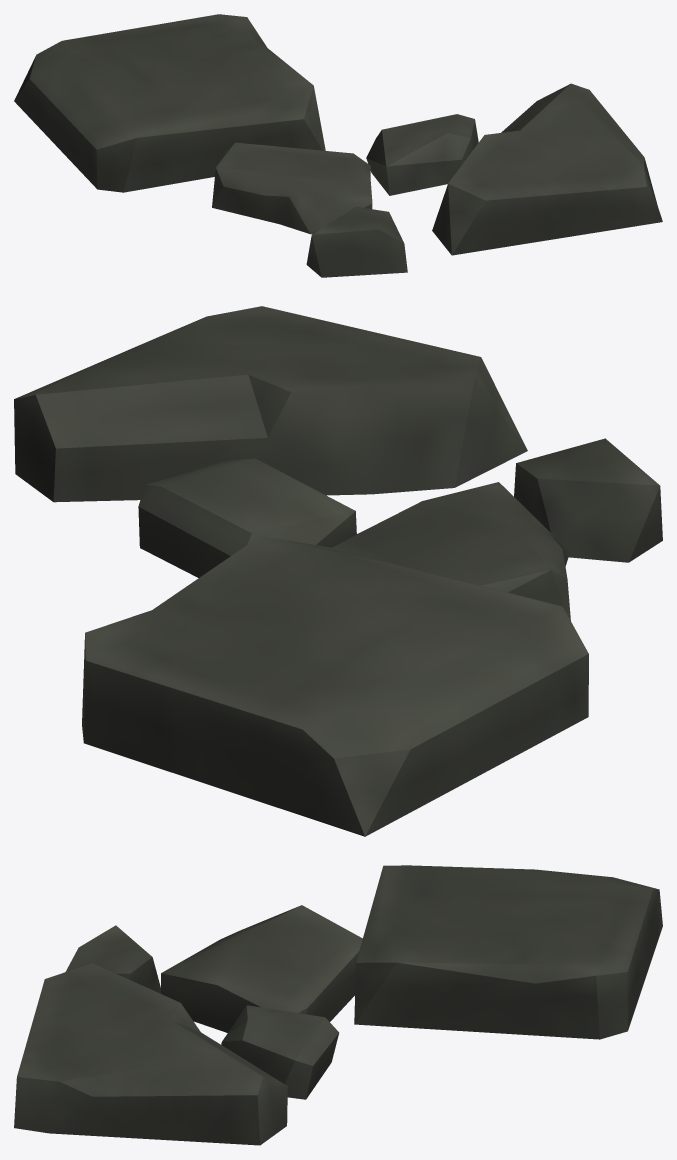
Rendered from Floor3.fbx.
The picture shows the model from 3 angles, top to bottom: view 1: azimuth 30°, elevation 25°; view 2: azimuth 150°, elevation 25°; view 3: azimuth 270°, elevation 25°; orthographic projection. The views are drawn at different scales.
Visible parts, largest first — view 1: Floor3; view 2: Floor3; view 3: Floor3.
Part boxes in pixels (left/top/right/bottom): Floor3: left=14, top=14, right=662, bottom=277; Floor3: left=14, top=306, right=662, bottom=836; Floor3: left=14, top=865, right=662, bottom=1145.
Size of the model in its own units: 185 by 34.4 by 215.
Materials: 1 (1 with a texture image).
